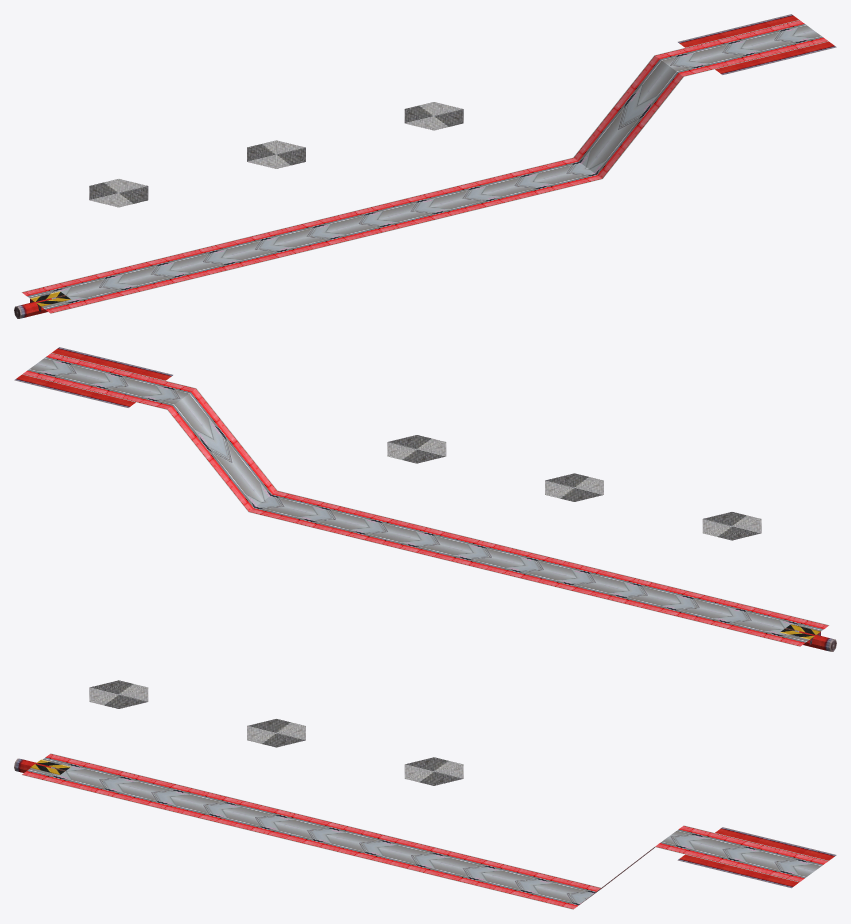
File: S13_ONS_06.OBJ
The picture shows the model from 3 angles, top to bottom: view 1: azimuth 30°, elevation 25°; view 2: azimuth 150°, elevation 25°; view 3: azimuth 330°, elevation 25°; orthographic projection.
Visible parts, largest first — view 1: s13_ons_06_5, s13_ons_06_6, s13_ons_06_0; view 2: s13_ons_06_5, s13_ons_06_6, s13_ons_06_0; view 3: s13_ons_06_5, s13_ons_06_6, s13_ons_06_0.
Boxes of the visible parts, <box> form: s13_ons_06_5: <box>21,20,828,313</box>; s13_ons_06_6: <box>89,102,463,207</box>; s13_ons_06_0: <box>15,14,836,318</box>; s13_ons_06_5: <box>22,353,829,646</box>; s13_ons_06_6: <box>387,435,761,540</box>; s13_ons_06_0: <box>14,347,835,651</box>; s13_ons_06_5: <box>22,753,828,909</box>; s13_ons_06_6: <box>89,680,463,785</box>; s13_ons_06_0: <box>14,758,836,888</box>.
Bounding box in the file's own units: 809 × 98 × 80.
Materials: 7 (7 with a texture image).
